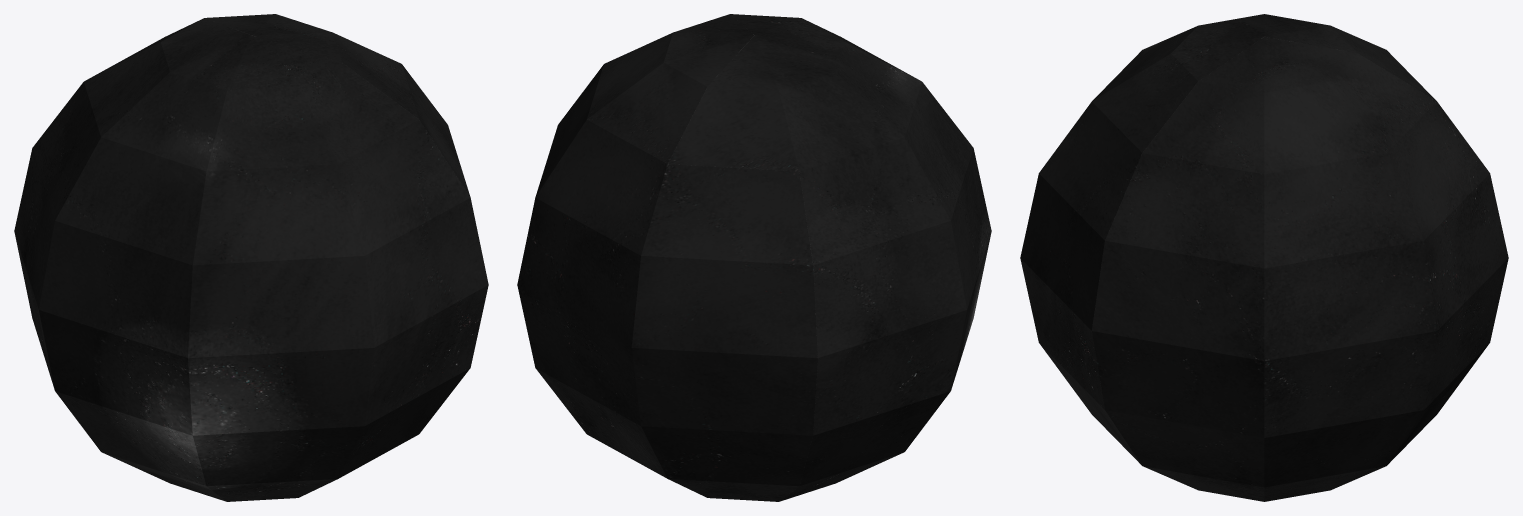
File: Cannon_Ball.obj
3 views of the same model, side by side, from view 1: azimuth 30°, elevation 25°; view 2: azimuth 150°, elevation 25°; view 3: azimuth 270°, elevation 25° (orthographic).
Parts seen in each view (by area): view 1: UV_Sphere_UV_Sphere; view 2: UV_Sphere_UV_Sphere; view 3: UV_Sphere_UV_Sphere.
Boxes of the visible parts, left/top/right/bottom form: UV_Sphere_UV_Sphere: left=14, top=14, right=488, bottom=501; UV_Sphere_UV_Sphere: left=517, top=14, right=991, bottom=501; UV_Sphere_UV_Sphere: left=1020, top=14, right=1508, bottom=501.
Bounding box in the file's own units: 1 × 1 × 1.
Materials: 1 (1 with a texture image).
